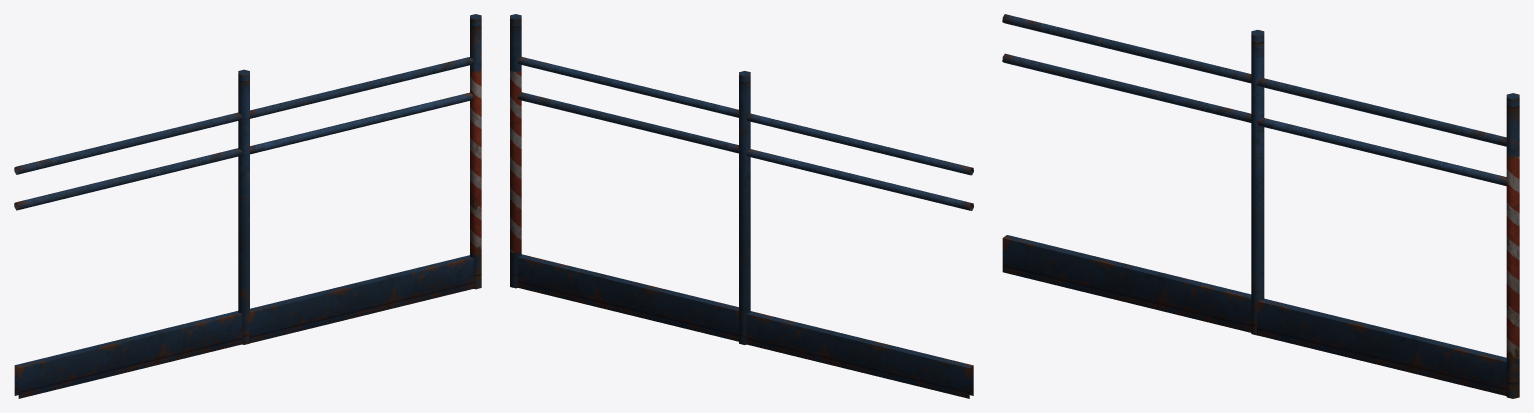
The model's file is Stage-gongchang-bianlan1.FBX.
3 views of the same model, side by side, from view 1: azimuth 30°, elevation 25°; view 2: azimuth 150°, elevation 25°; view 3: azimuth 330°, elevation 25° (orthographic). The views are drawn at different scales.
Visible parts, largest first — view 1: Object28; view 2: Object28; view 3: Object28.
Part boxes in pixels (x1=…): Object28: x1=14, y1=14, x2=481, y2=398; Object28: x1=510, y1=14, x2=973, y2=398; Object28: x1=1002, y1=14, x2=1519, y2=398.
Size of the model in its own units: 10.91 by 0.2741 by 6.06.
